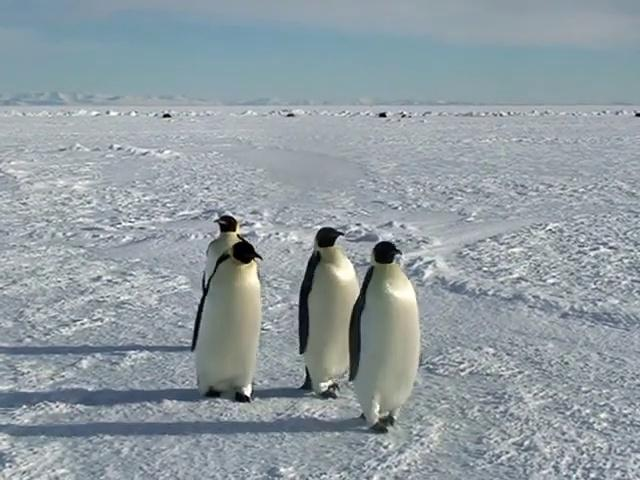animal: (350, 242, 421, 433)
